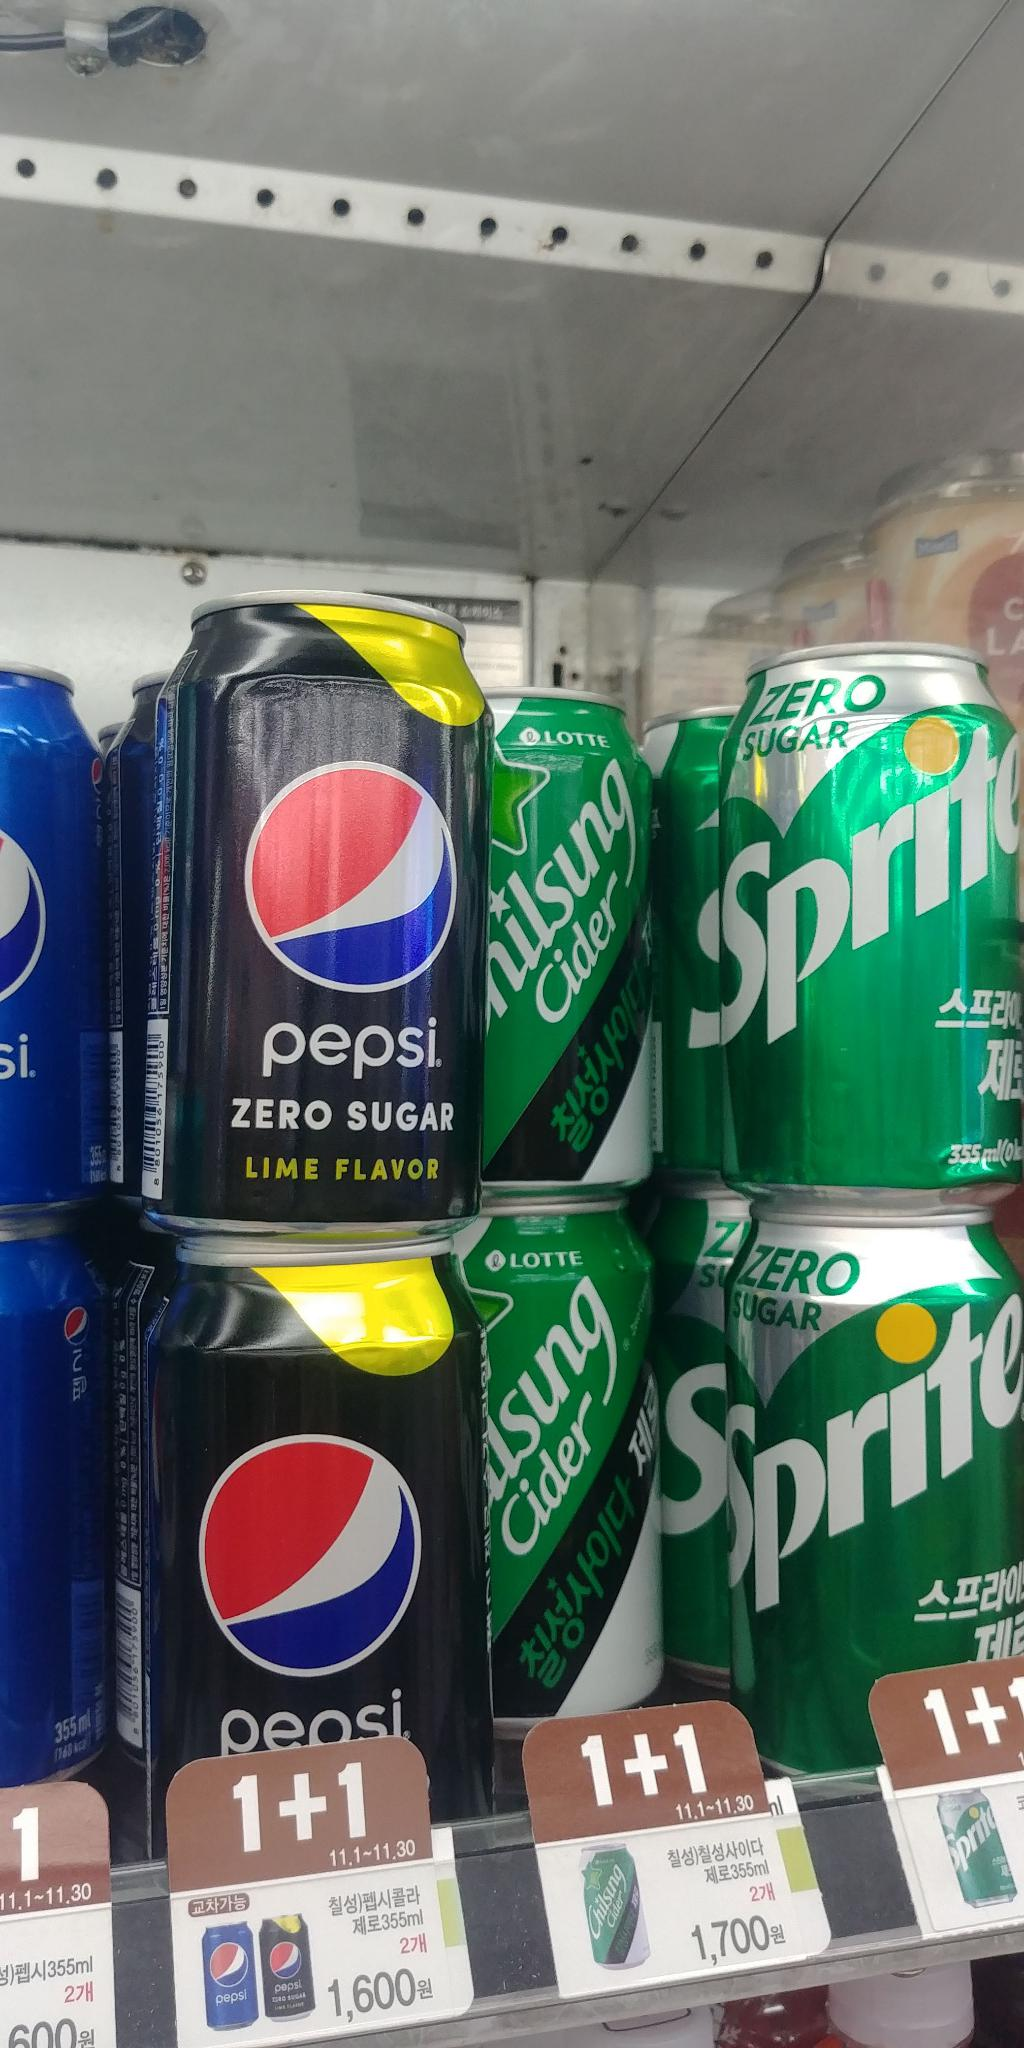pepsi_zero: (110, 1219, 515, 1835), (149, 581, 502, 1255)
